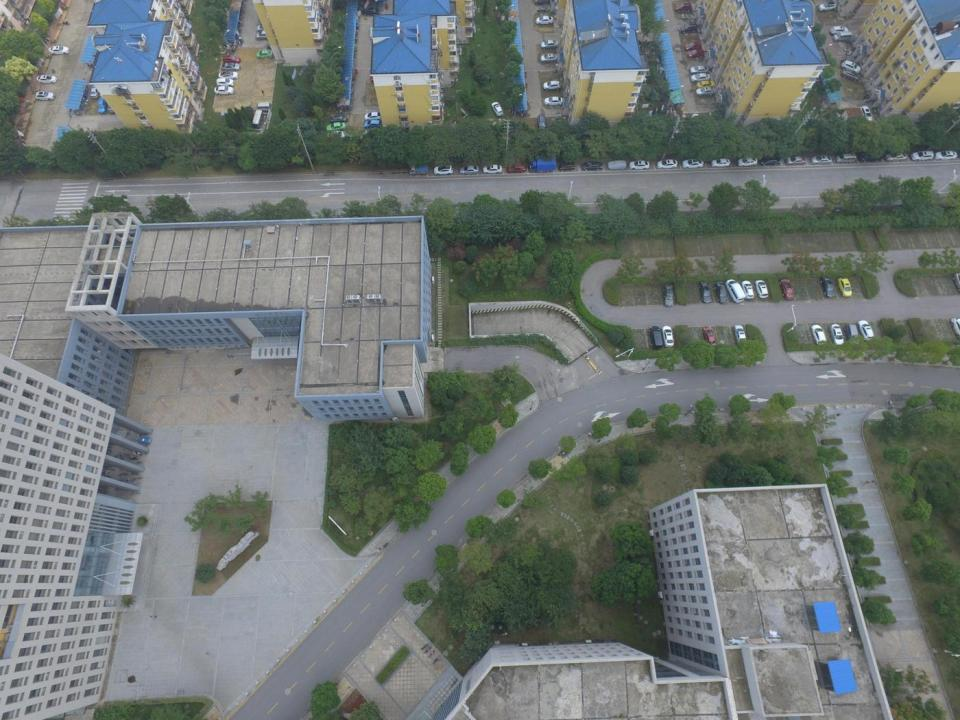car: (857, 320, 874, 342), (779, 278, 795, 300), (829, 324, 845, 346), (714, 281, 728, 305), (836, 277, 852, 298), (811, 324, 826, 345), (698, 281, 712, 303), (733, 324, 747, 346), (820, 276, 834, 298), (702, 326, 717, 346), (842, 60, 862, 74), (754, 280, 769, 298), (841, 68, 860, 82), (663, 284, 675, 306), (910, 150, 934, 161), (736, 156, 758, 168), (741, 280, 754, 300), (934, 150, 957, 161), (662, 326, 674, 347), (681, 158, 703, 169), (859, 152, 882, 162), (885, 152, 907, 162), (810, 155, 832, 165), (656, 159, 678, 169), (506, 163, 526, 174), (434, 165, 454, 176), (48, 45, 70, 55), (36, 74, 58, 84), (35, 90, 55, 101), (679, 22, 697, 34), (628, 160, 649, 170), (458, 165, 479, 175), (542, 80, 561, 91), (760, 156, 780, 166), (221, 62, 241, 72), (326, 122, 346, 132), (544, 96, 564, 106), (696, 87, 716, 97), (951, 318, 960, 340), (784, 156, 806, 165), (581, 162, 603, 171), (90, 81, 101, 99), (818, 1, 836, 12), (860, 106, 872, 122), (607, 160, 626, 170), (255, 49, 274, 59), (255, 30, 274, 40), (363, 120, 382, 130), (690, 65, 709, 75), (830, 26, 849, 36), (710, 158, 730, 167), (482, 165, 502, 174), (97, 96, 107, 114), (214, 86, 234, 95), (491, 102, 503, 117), (540, 39, 558, 49), (690, 73, 710, 82), (696, 80, 716, 89), (256, 24, 275, 33), (535, 16, 554, 25), (675, 2, 692, 12), (216, 78, 234, 87), (330, 115, 348, 124), (360, 7, 378, 16), (540, 54, 558, 63), (684, 42, 702, 51), (218, 72, 238, 80), (326, 131, 346, 139), (558, 162, 575, 171), (224, 55, 241, 64), (364, 112, 381, 121), (108, 95, 116, 113), (688, 49, 704, 58), (538, 114, 546, 131), (369, 25, 377, 39)
truck: (529, 156, 556, 173), (409, 163, 429, 176)
van: (724, 279, 746, 303), (649, 326, 663, 350), (844, 324, 859, 345), (835, 153, 857, 164), (833, 31, 852, 42), (256, 102, 272, 111)
